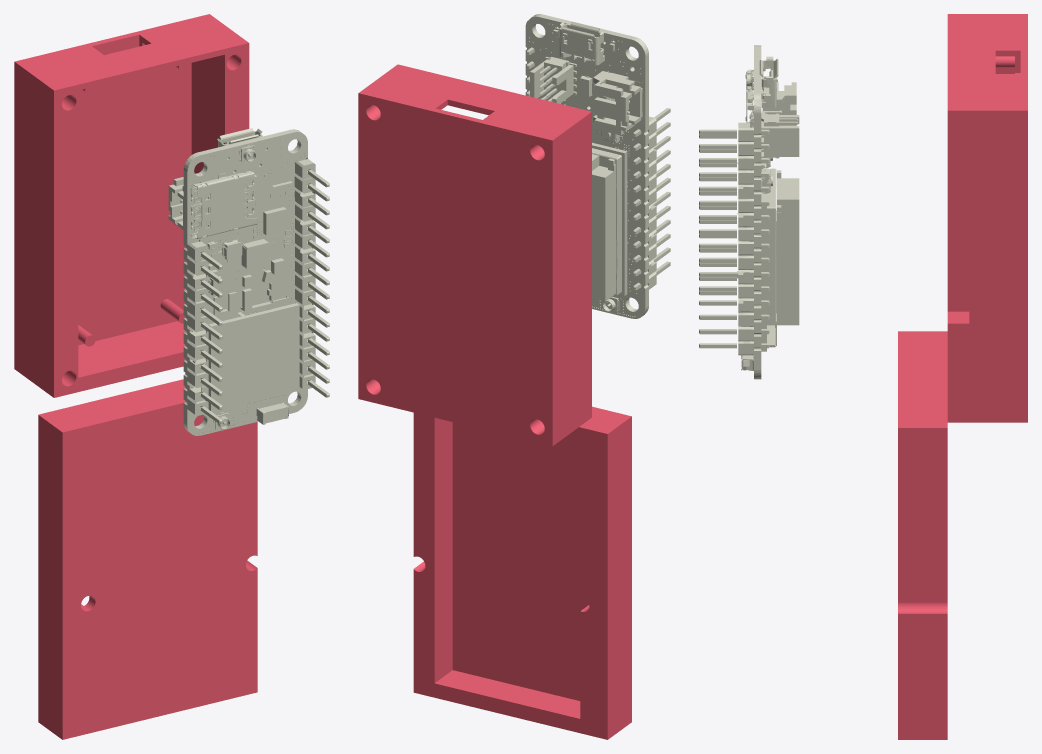
Rendered from helmet3d.glb.
3 views of the same model, side by side, from view 1: azimuth 30°, elevation 25°; view 2: azimuth 150°, elevation 25°; view 3: azimuth 270°, elevation 25° (orthographic). The views are drawn at different scales.
Parts seen in each view (by area): view 1: obj_2, obj_1, obj_0; view 2: obj_1, obj_2, obj_0; view 3: obj_1, obj_0, obj_2.
Boxes of the visible parts, box(x1,y1,x2,y2) form: obj_2: box(38, 379, 257, 739); obj_1: box(14, 14, 249, 397); obj_0: box(168, 128, 329, 435); obj_1: box(358, 64, 591, 446); obj_2: box(413, 406, 631, 739); obj_0: box(525, 14, 670, 318); obj_1: box(947, 14, 1027, 422); obj_0: box(699, 45, 799, 379); obj_2: box(898, 331, 947, 739).
Size of the model in its own units: 40 by 114 by 53.21.
